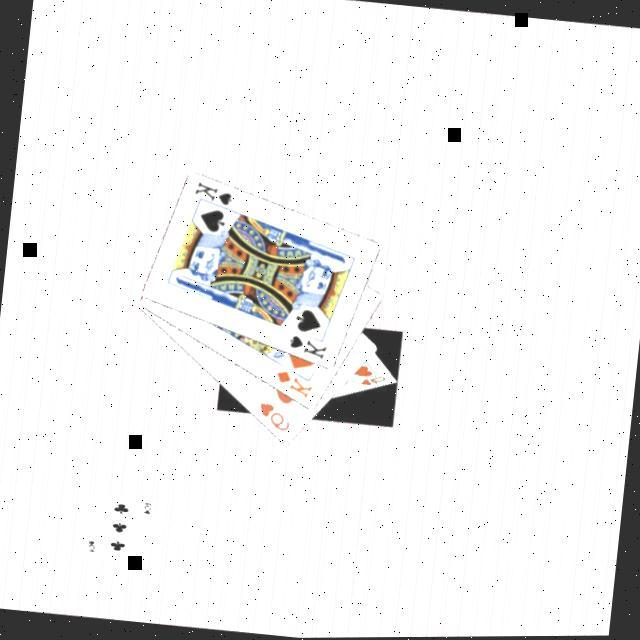6H: (252, 399, 293, 435)
KD: (268, 367, 315, 402)
KS: (188, 178, 236, 215), (282, 332, 329, 364)
